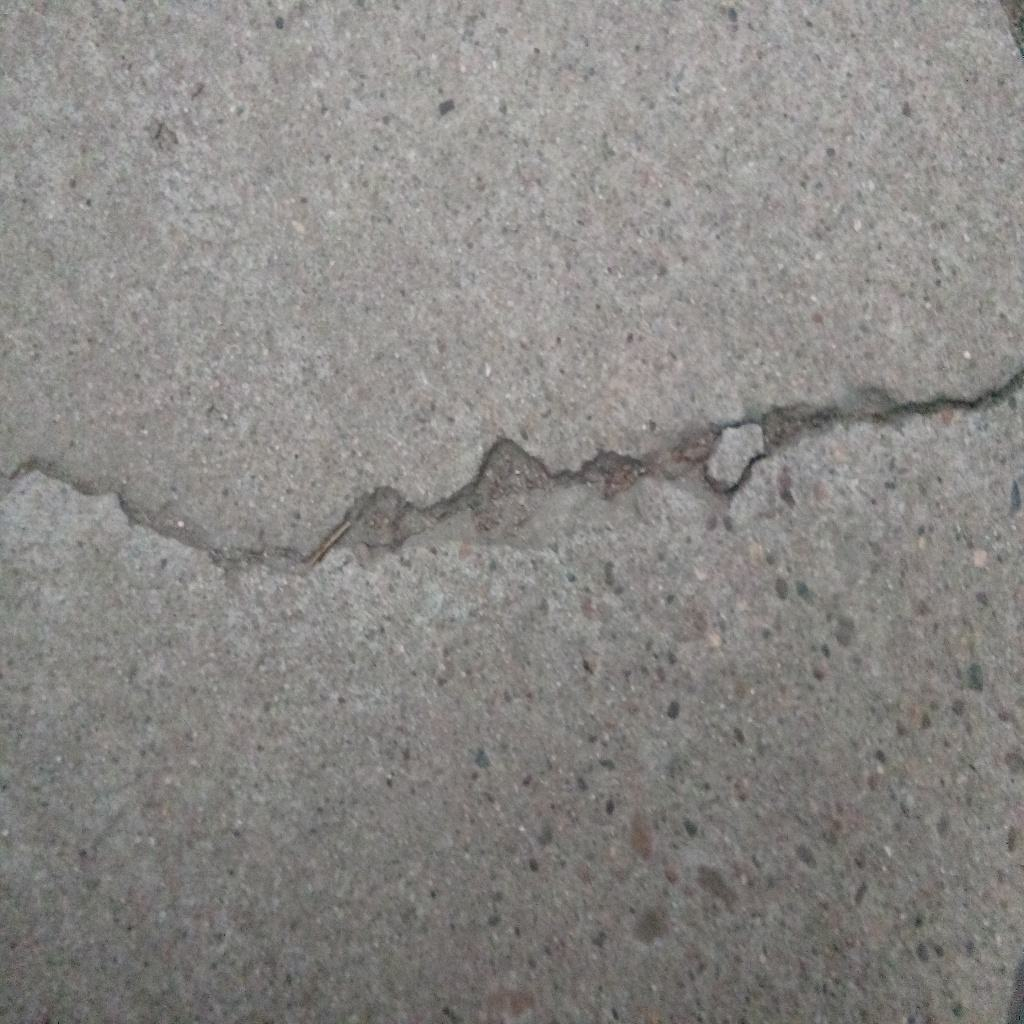Crack: (1, 363, 1024, 576)
